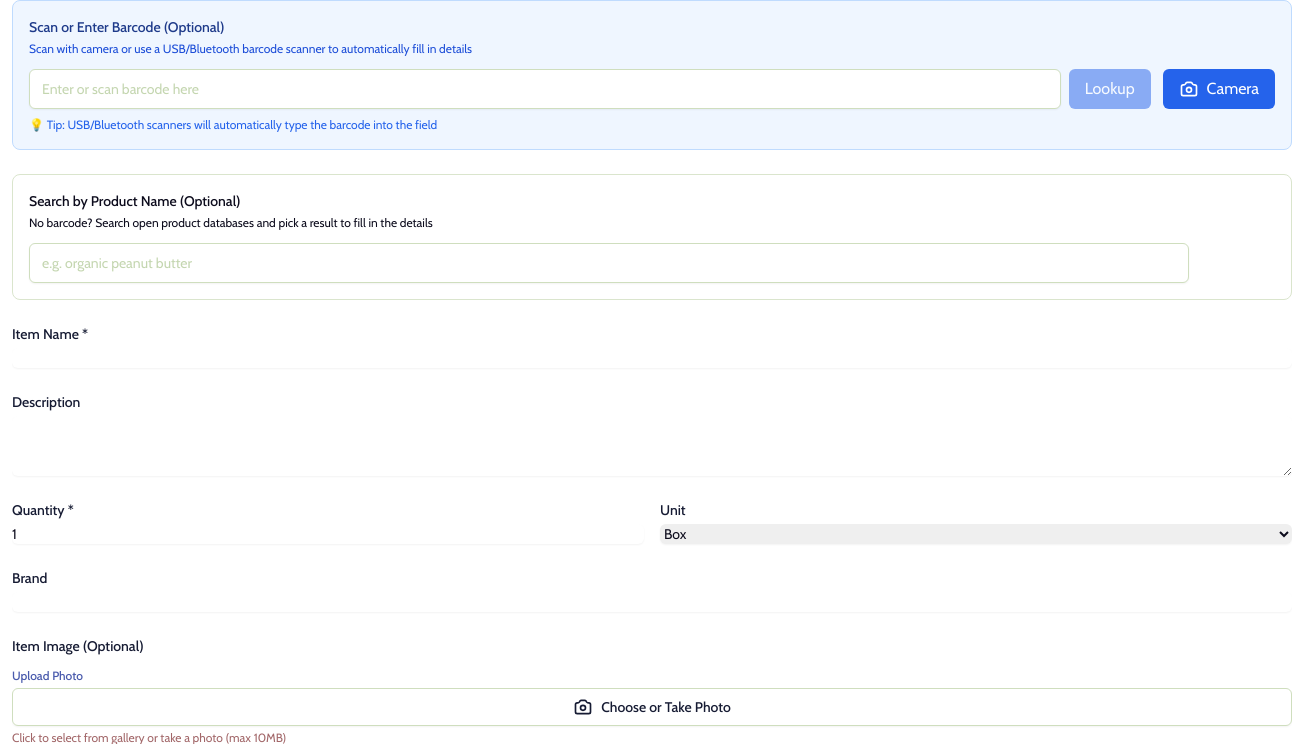
Test: AddItemForm › looks up a barcode manually and fills in the form + product indicators
This screenshot has width=1304, height=744.
Type "12345" into the field with placeholder "Enter or scan barcode here" at point(545, 89), box [29,69,1061,109]
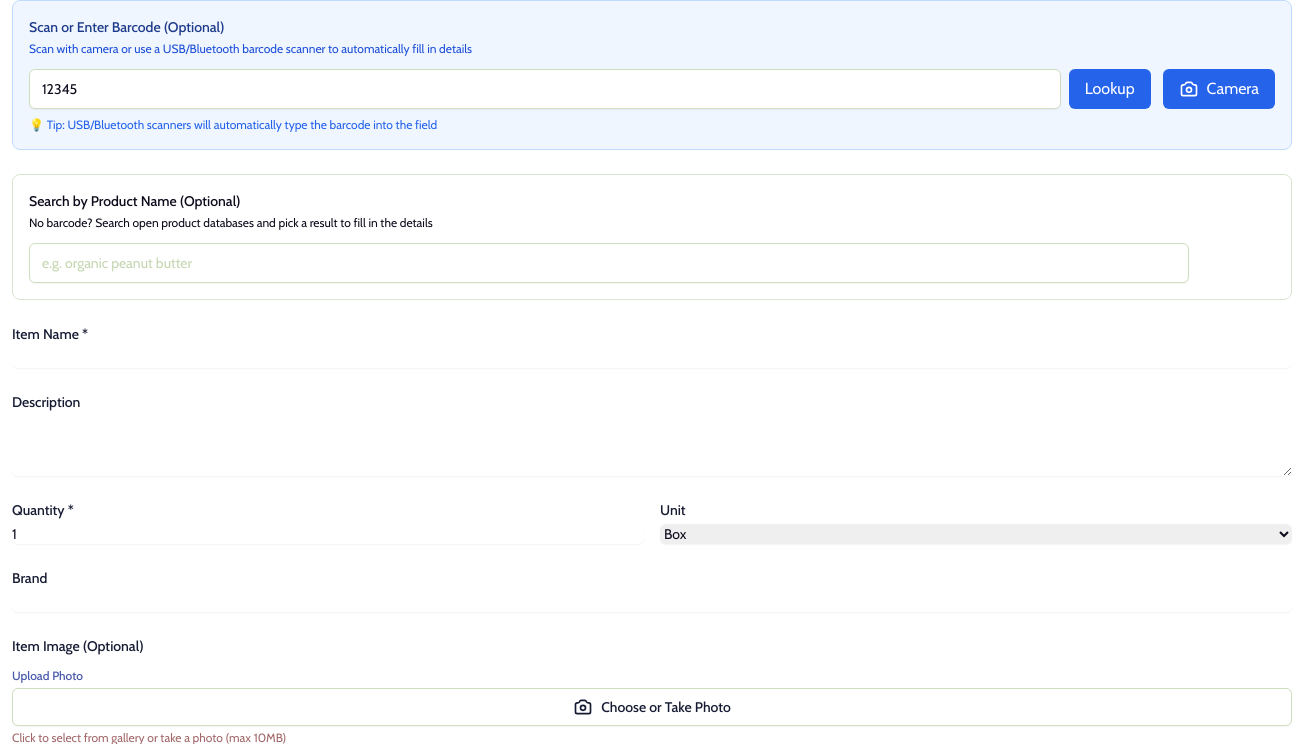
Click the button "Lookup" at point(1110, 89), box [1069,69,1151,109]
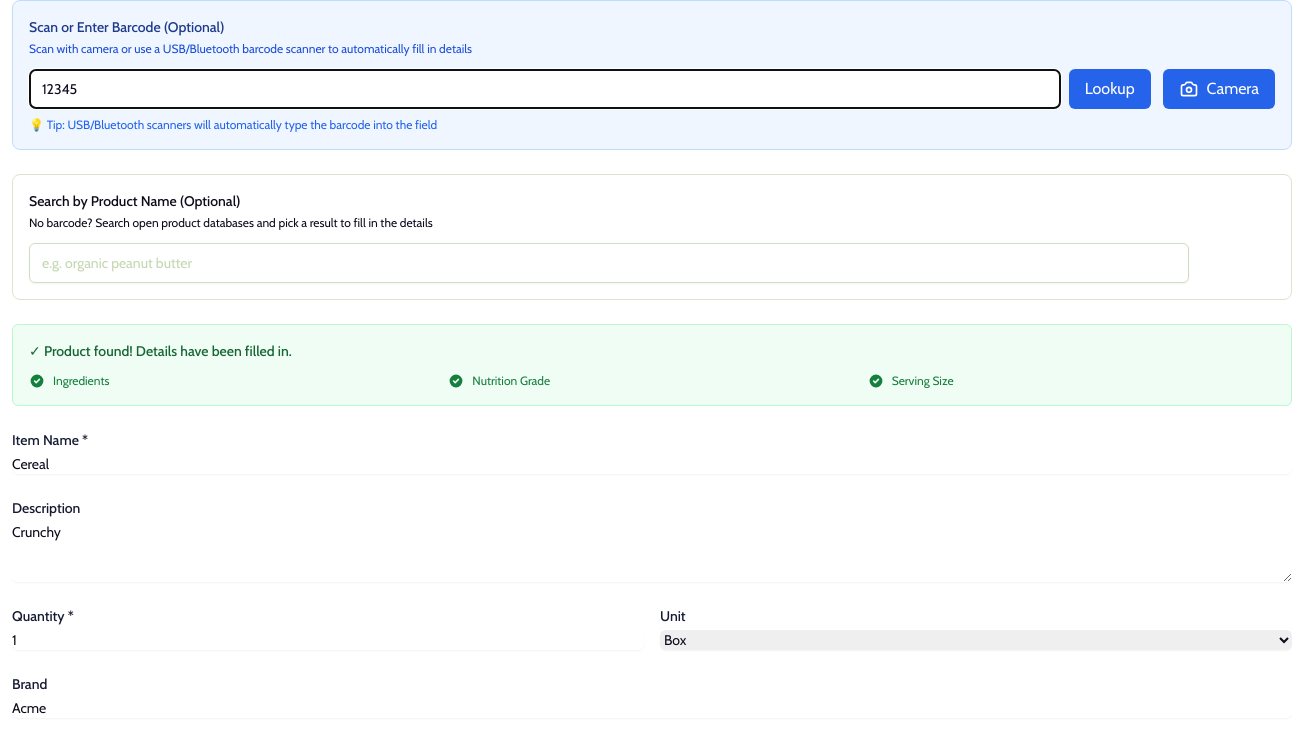
Expected: the text "✓ Product found! Details have been filled in." is shown, [29,342,292,360]
Expected: the field labelled "Item Name *" holds "Cereal", [12,454,1292,474]
